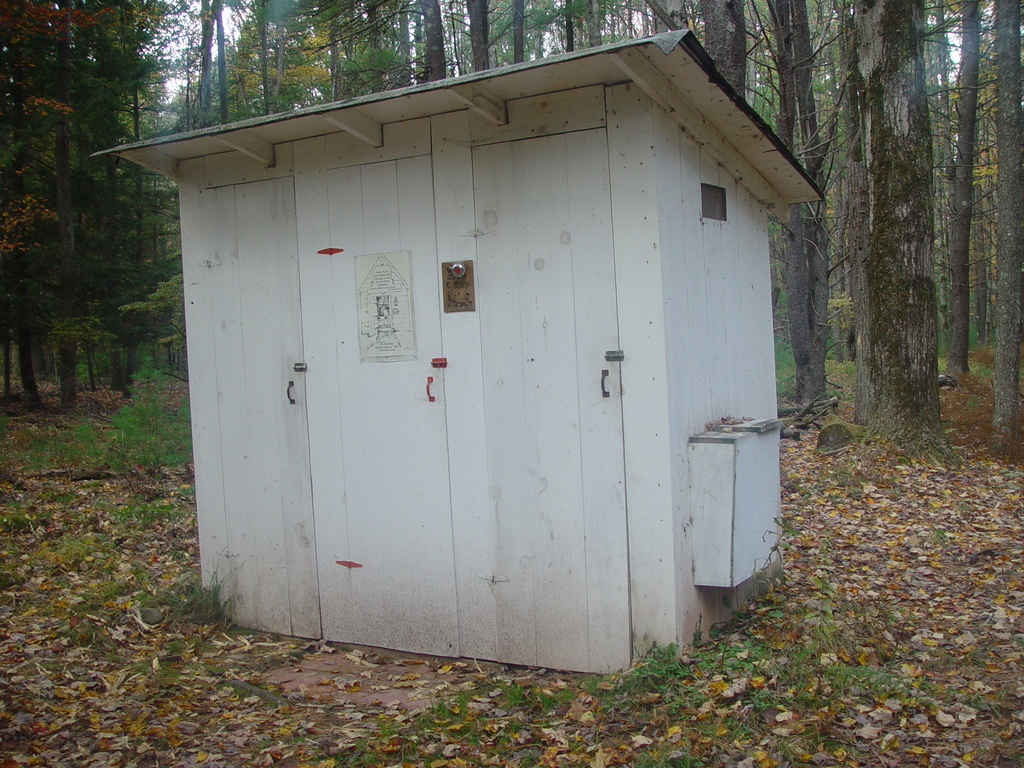Tree: (0, 0, 1023, 462)
